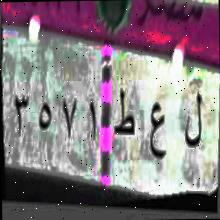1: (86, 90, 100, 149)
3: (13, 87, 30, 142)
5: (36, 94, 53, 140)
7: (60, 90, 78, 147)
Taa: (111, 78, 136, 144)
ain: (146, 97, 169, 172)
laam: (182, 81, 203, 166)
